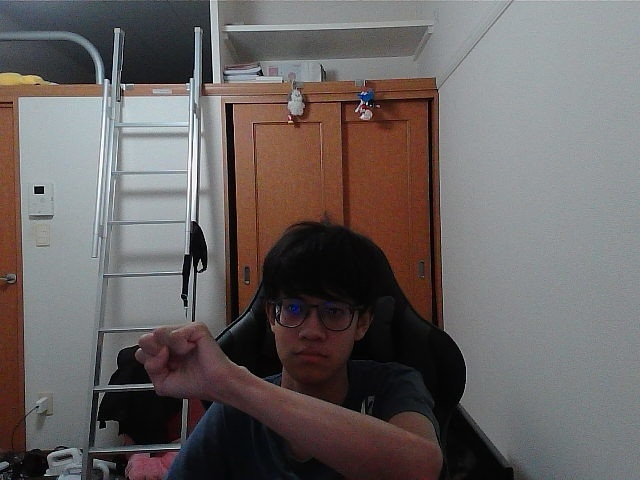closed_palm: (142, 332, 209, 390)
